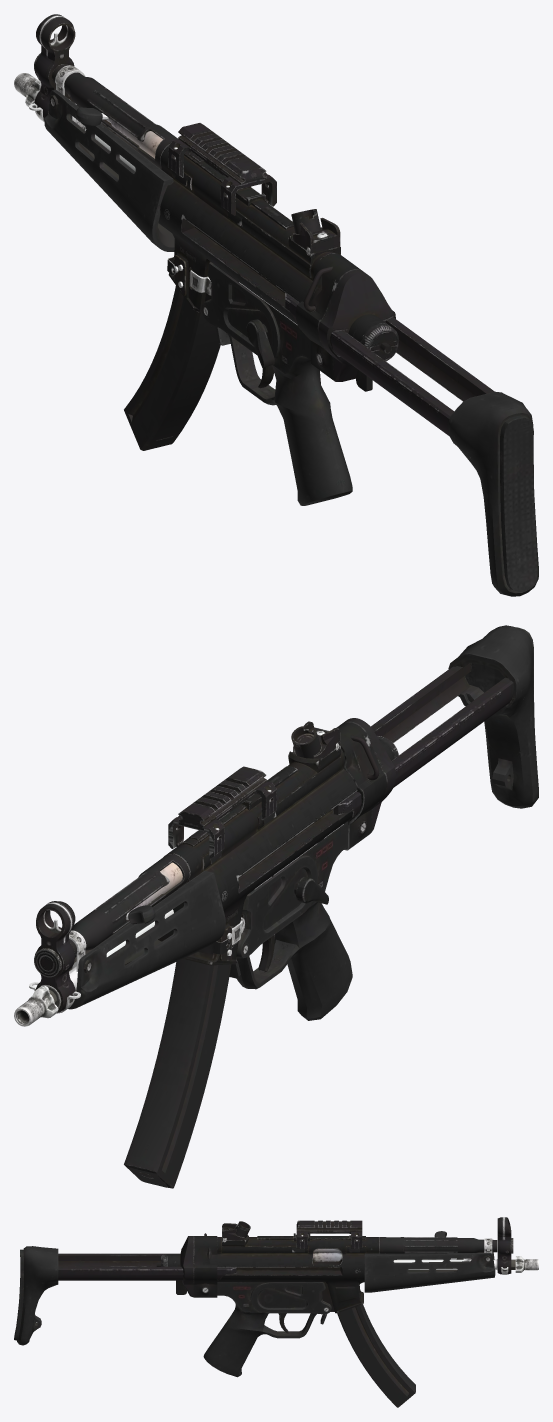
3 renders of one model, top to bottom at view 1: azimuth 30°, elevation 25°; view 2: azimuth 150°, elevation 25°; view 3: azimuth 270°, elevation 25°, orthographic. The views are drawn at different scales.
Parts seen in each view (by area): view 1: ANCHOR, MAGASINE, FRAME, BOLT, SELECTOR; view 2: ANCHOR, MAGASINE, FRAME, BOLT, SELECTOR; view 3: ANCHOR, MAGASINE, FRAME, BOLT_02.
Part boxes in pixels (bbox=[...]): ANCHOR: bbox=[14, 14, 538, 596]; MAGASINE: bbox=[124, 286, 220, 450]; FRAME: bbox=[168, 123, 276, 215]; BOLT: bbox=[75, 107, 162, 158]; SELECTOR: bbox=[246, 319, 274, 367]; ANCHOR: bbox=[14, 625, 538, 1026]; MAGASINE: bbox=[124, 959, 231, 1188]; FRAME: bbox=[168, 766, 276, 858]; BOLT: bbox=[126, 862, 182, 924]; SELECTOR: bbox=[294, 877, 328, 904]; ANCHOR: bbox=[14, 1217, 538, 1377]; MAGASINE: bbox=[337, 1304, 415, 1407]; FRAME: bbox=[296, 1220, 362, 1248]; BOLT_02: bbox=[313, 1249, 342, 1261].
Size of the model in its own units: 0.0614 by 0.2797 by 0.7148.
Materials: 2 (1 with a texture image).
